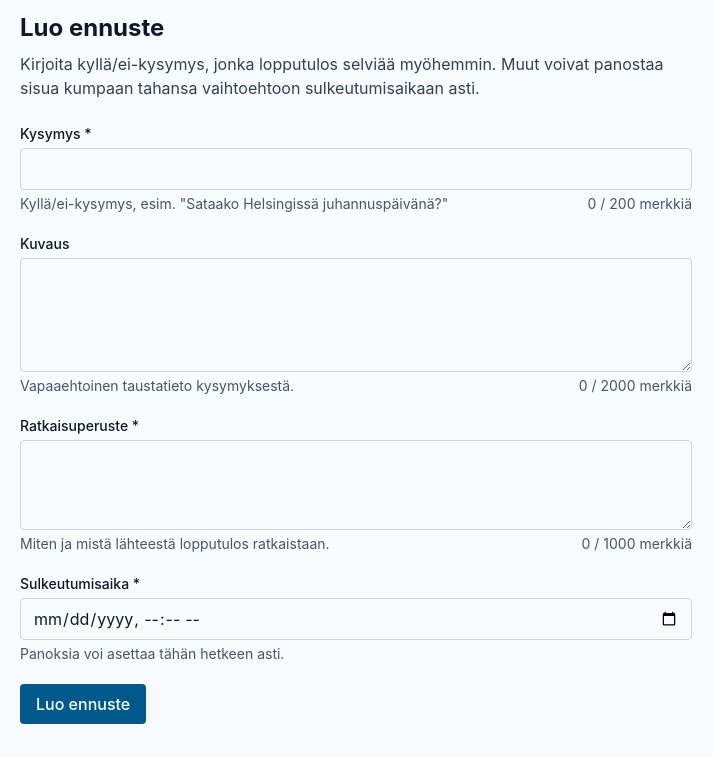
Scenario: CreatePrediction › shows field errors for empty question, empty criteria and a past closing date without posting
Type "2000-01-01T12:00" into the field labelled "Sulkeutumisaika *".
click(356, 619); type("2000-01-01T12:00")  # box [20,598,692,640]
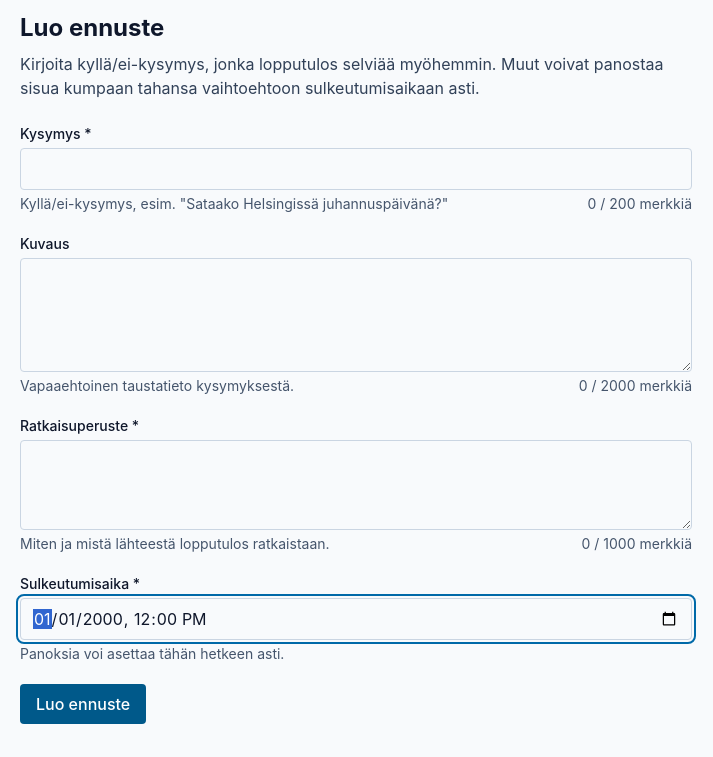
Click the button "Luo ennuste".
click(83, 704)  # box [20,684,146,724]
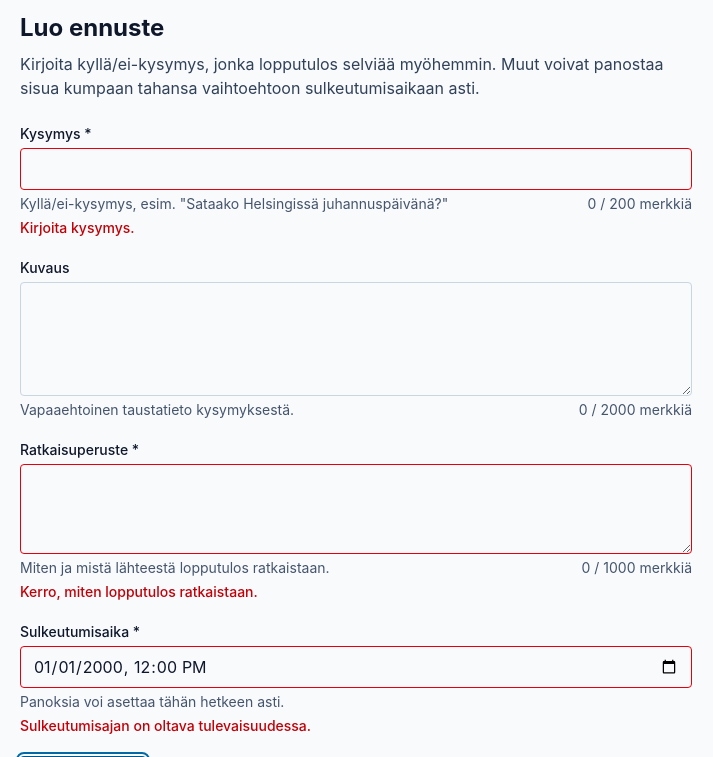
Expected: the text "Kerro, miten lopputulos ratkaistaan." is shown, [20,583,258,600]
Expected: the text "Sulkeutumisajan on oltava tulevaisuudessa." is shown, [20,717,311,734]
